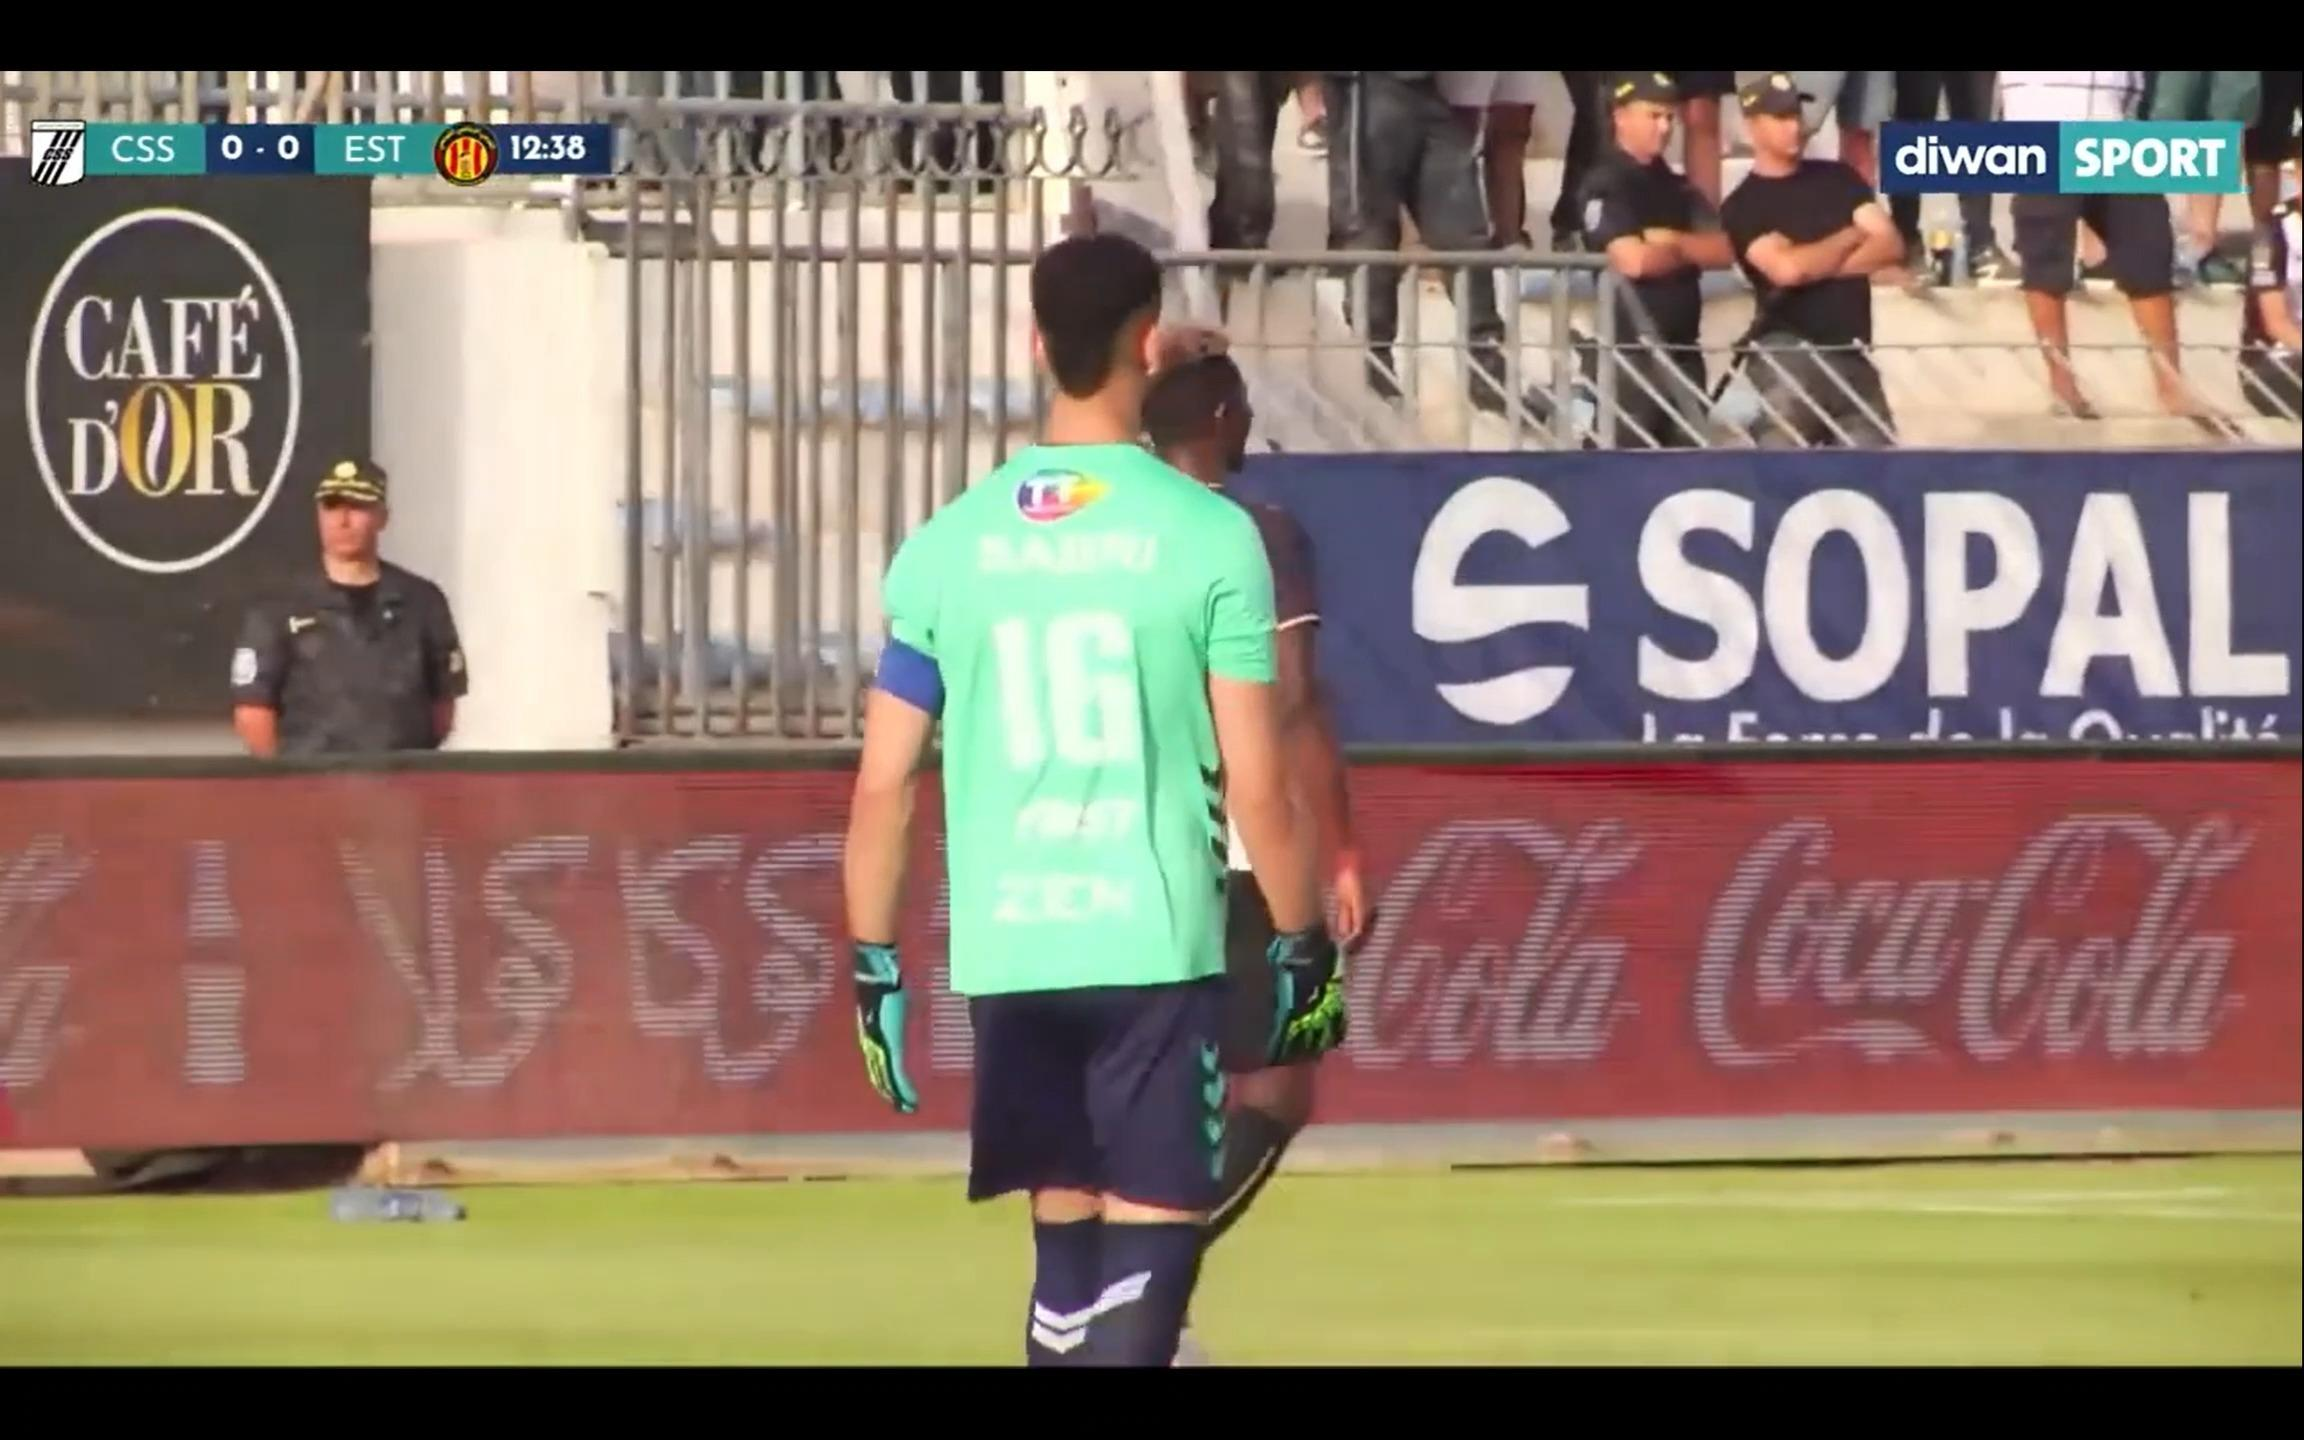goalkeeper: (790, 224, 1456, 1357)
